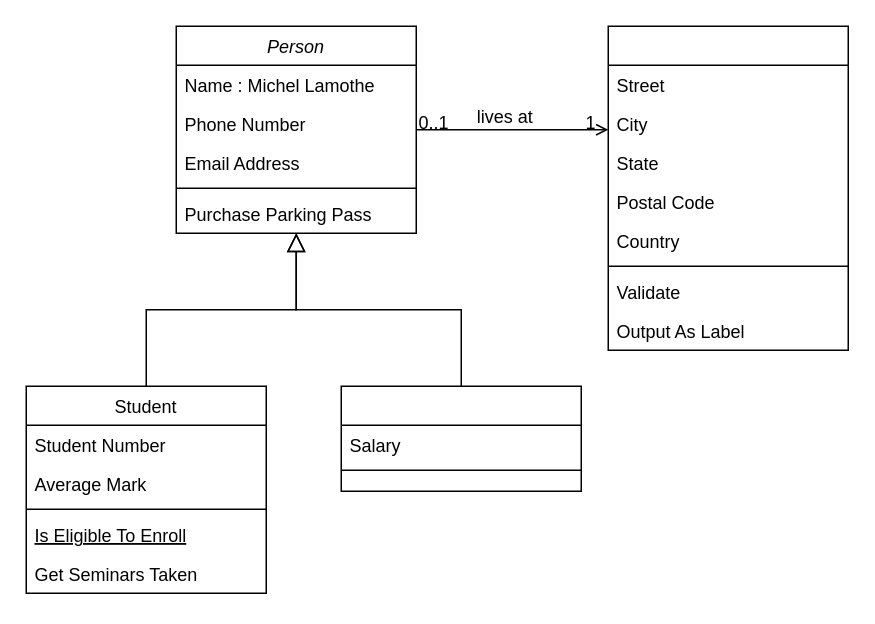
Image size: 875x624. Some labels were removed from this diagram. The shapes that lost their labels are listed below. From the top down, each one's box as (x1, y1, x2, y2) in pixels, then its label:
(607, 25, 848, 350): Address
(340, 385, 581, 491): Professor
